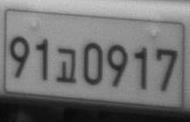0: (82, 41, 104, 85)
1: (132, 46, 154, 90), (32, 38, 53, 80)
7: (156, 48, 178, 92)
9: (106, 43, 128, 87), (8, 35, 30, 78)
고: (55, 46, 76, 83)
